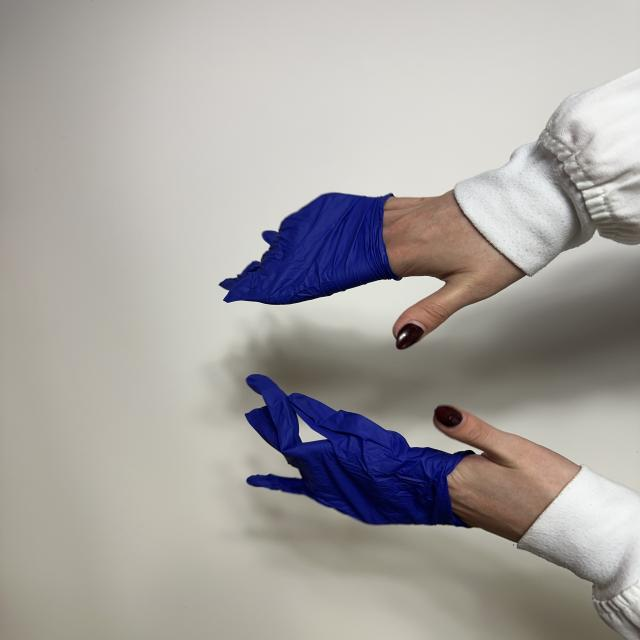glove_partial: (246, 374, 578, 542), (220, 192, 524, 349)
